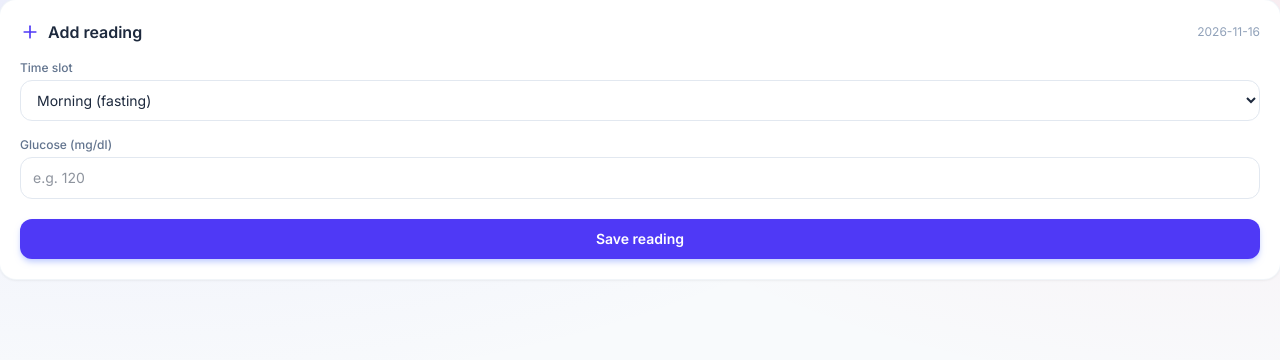
Test: shows the server error when the value is empty
This screenshot has width=1280, height=360.
Click the button "Save reading" at (640, 239), box [20,219,1260,259]
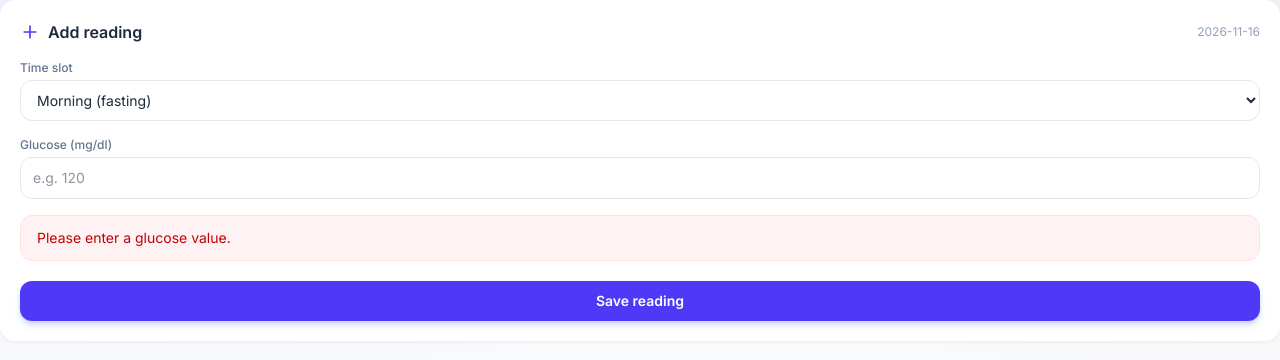
expect the message reads "Please enter a glucose value.": met, box [37,229,231,246]
